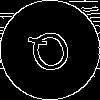Q: (25, 25, 78, 84)
